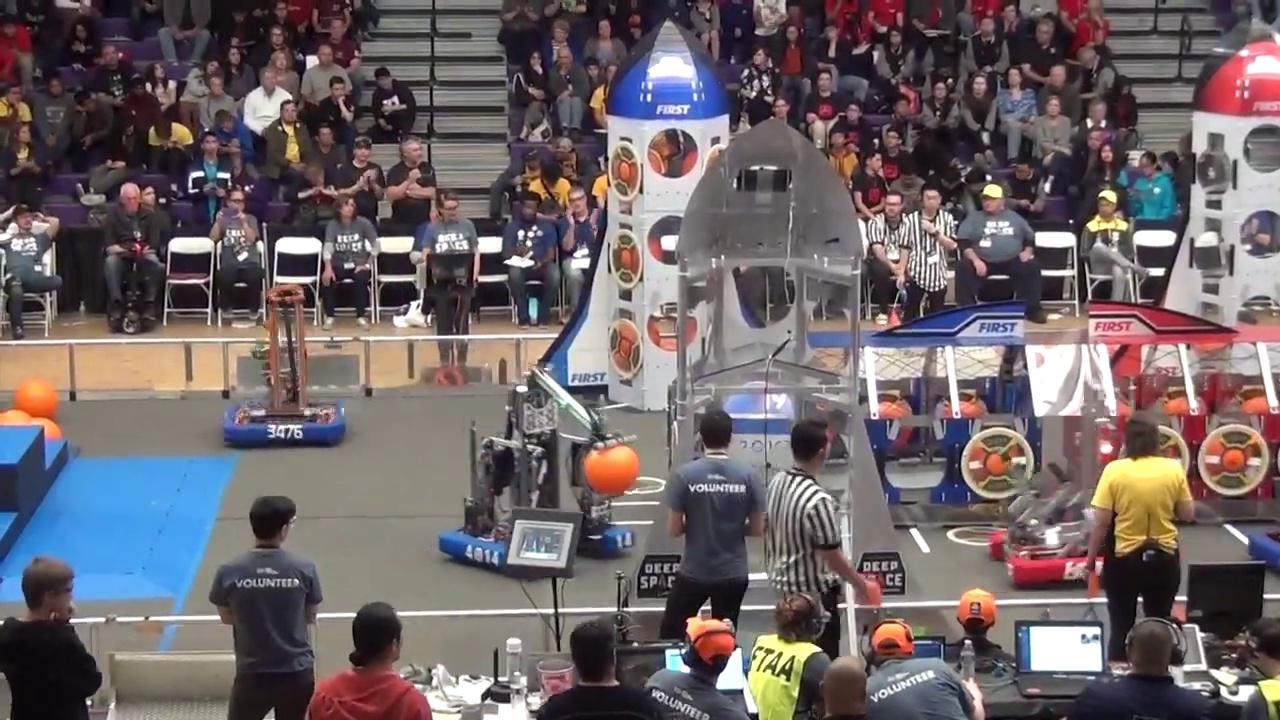robot: (436, 363, 636, 579), (218, 281, 352, 451), (990, 453, 1102, 592)
